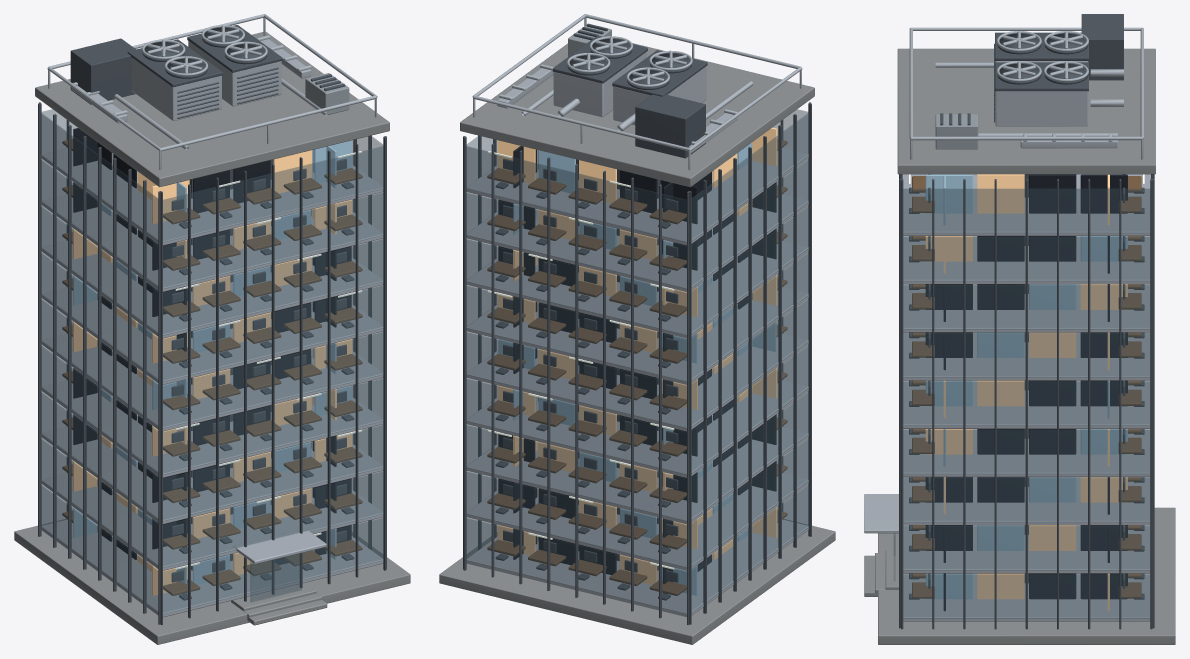
The model's file is tower.glb.
3 views of the same model, side by side, from view 1: azimuth 30°, elevation 25°; view 2: azimuth 150°, elevation 25°; view 3: azimuth 270°, elevation 25° (orthographic). The views are drawn at different scales.
Parts seen in each view (by area): view 1: body_glass.044, body_steel.162, body_dark.152, body_concrete.050, body_wood.020, body_window_dark.013, body_window.020, body_window_cool.013, body_steel.163, body_dark.153, body_ceramic.025, body_warm.105; view 2: body_glass.044, body_steel.162, body_dark.152, body_concrete.050, body_wood.020, body_window_dark.013, body_window.020, body_window_cool.013, body_steel.163, body_dark.153, body_warm.105; view 3: body_glass.044, body_steel.162, body_concrete.050, body_window_dark.013, body_dark.152, body_window.020, body_window_cool.013, body_wood.020, body_steel.163, body_dark.153, body_ceramic.025.
Part boxes in pixels (bbox=[...]): body_glass.044: bbox=[40, 109, 383, 614]; body_steel.162: bbox=[41, 36, 383, 617]; body_dark.152: bbox=[38, 25, 386, 624]; body_concrete.050: bbox=[14, 32, 410, 644]; body_wood.020: bbox=[62, 139, 362, 595]; body_window_dark.013: bbox=[73, 128, 351, 564]; body_window.020: bbox=[72, 150, 352, 595]; body_window_cool.013: bbox=[73, 140, 351, 594]; body_steel.163: bbox=[47, 14, 377, 170]; body_dark.153: bbox=[142, 27, 266, 78]; body_ceramic.025: bbox=[305, 73, 349, 114]; body_warm.105: bbox=[175, 151, 361, 569]; body_glass.044: bbox=[466, 109, 809, 614]; body_steel.162: bbox=[466, 52, 808, 617]; body_dark.152: bbox=[463, 23, 811, 624]; body_concrete.050: bbox=[439, 43, 835, 644]; body_wood.020: bbox=[487, 139, 787, 595]; body_window_dark.013: bbox=[498, 146, 776, 594]; body_window.020: bbox=[497, 127, 777, 584]; body_window_cool.013: bbox=[498, 142, 776, 595]; body_steel.163: bbox=[472, 14, 802, 170]; body_dark.153: bbox=[567, 39, 691, 89]; body_warm.105: bbox=[488, 151, 674, 569]; body_glass.044: bbox=[893, 175, 1152, 618]; body_steel.162: bbox=[864, 61, 1150, 621]; body_concrete.050: bbox=[864, 48, 1175, 644]; body_window_dark.013: bbox=[925, 174, 1127, 610]; body_dark.152: bbox=[899, 14, 1154, 629]; body_window.020: bbox=[925, 174, 1127, 611]; body_window_cool.013: bbox=[925, 174, 1127, 599]; body_wood.020: bbox=[912, 176, 1141, 598]; body_steel.163: bbox=[909, 27, 1143, 159]; body_dark.153: bbox=[997, 33, 1088, 84]; body_ceramic.025: bbox=[935, 114, 978, 149].
Size of the model in its own units: 2 by 3.83 by 2.05.
